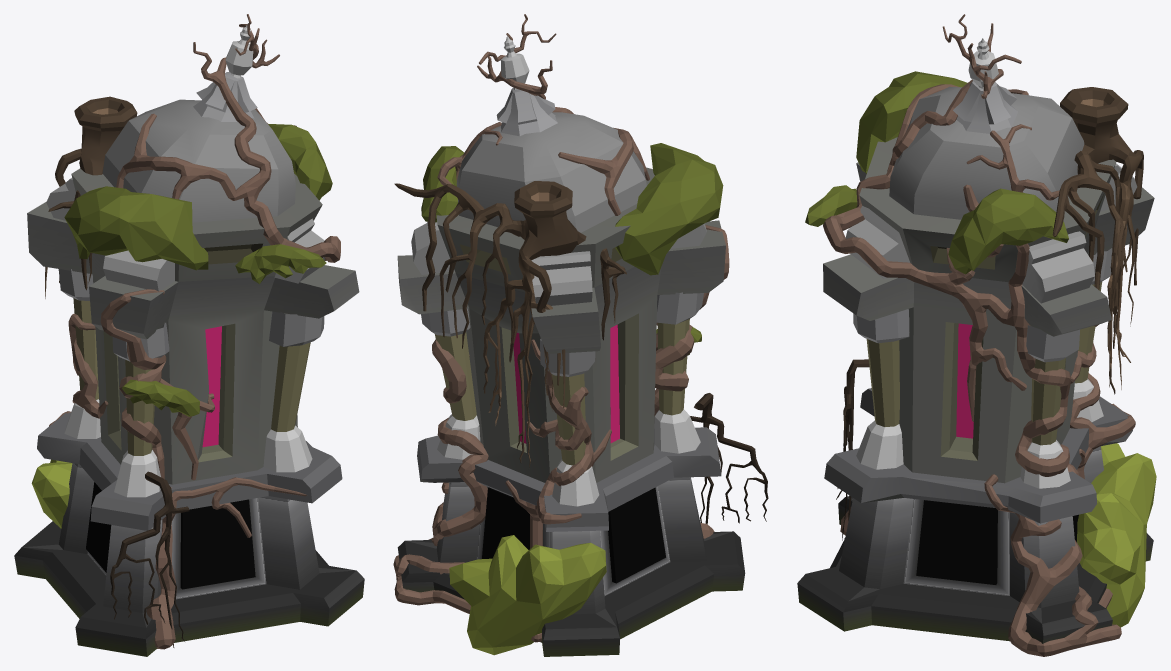
File: ea_bld_monument_3b_pre_2_lev1.glb
3 views of the same model, side by side, from view 1: azimuth 30°, elevation 25°; view 2: azimuth 150°, elevation 25°; view 3: azimuth 270°, elevation 25° (orthographic). The views are drawn at different scales.
Parts seen in each view (by area): view 1: ea_bld_monument_3b_pre_2_lev1; view 2: ea_bld_monument_3b_pre_2_lev1; view 3: ea_bld_monument_3b_pre_2_lev1.
Boxes of the visible parts, x1,y1,x2,y2 form: ea_bld_monument_3b_pre_2_lev1: (14,14,364,656); ea_bld_monument_3b_pre_2_lev1: (393,14,768,656); ea_bld_monument_3b_pre_2_lev1: (797,14,1156,656).
Bounding box in the file's own units: 5.21 × 10.06 × 5.2.
Materials: 2 (1 with a texture image).
